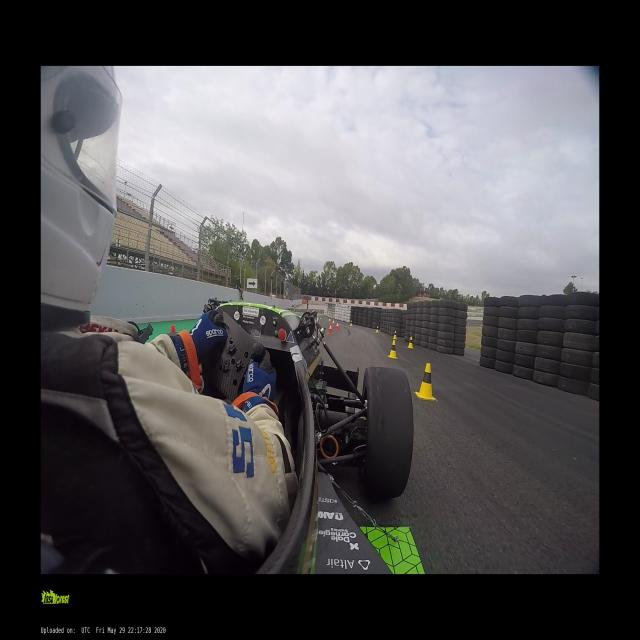orange_cone: (327, 323, 332, 336), (334, 322, 339, 330), (170, 326, 175, 333), (331, 319, 335, 326)
yellow_cone: (414, 363, 436, 401), (387, 340, 397, 360), (406, 337, 414, 348), (392, 331, 396, 339), (375, 326, 379, 333), (349, 320, 352, 327), (328, 316, 331, 321)
